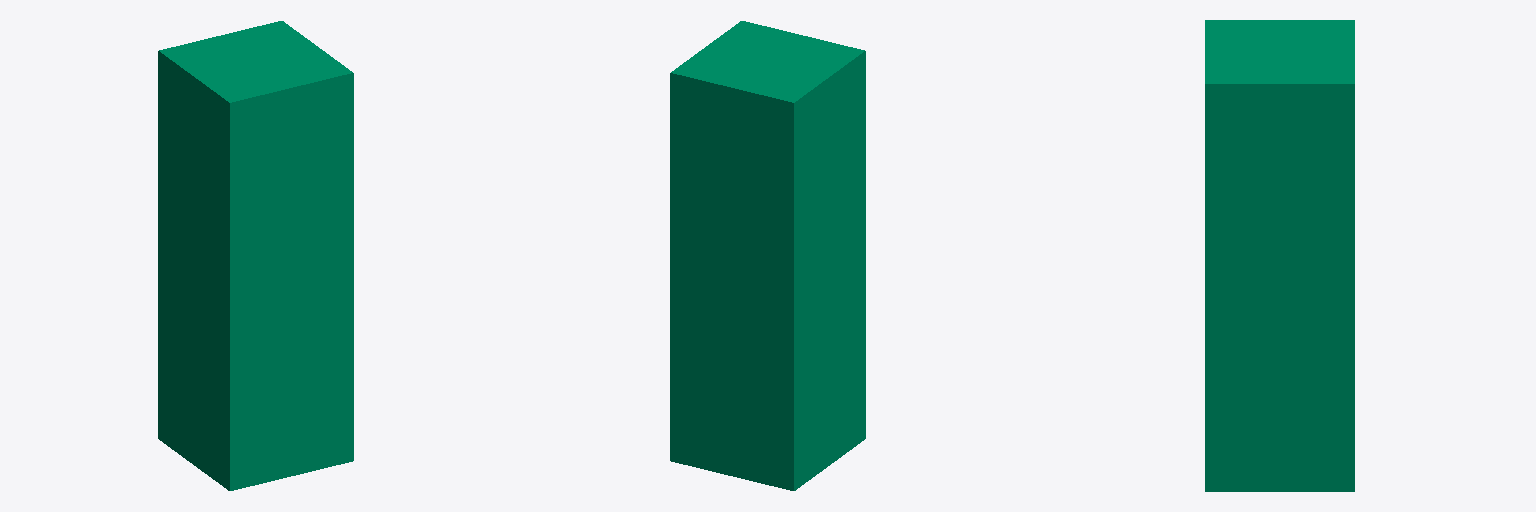
The robot description file, URDF, robot "stand":
<robot name="stand">

    <link name="world"/>
    <link name="origin_link"/>
    <joint
        name="world_joint"
        static="true"
        type="fixed"
    >

      <parent link="world"/>
      <child link="origin_link"/>

    </joint>
    <link name="stand_link">

        <inertial>

            <mass value="8"/>
            <inertia
                ixx="0.031296"
                ixy="0"
                ixz="0"
                iyy="0.031296"
                iyz="0"
                izz="0.002592"
            />

        </inertial>
        <visual>

            <geometry>

                <box size="0.1 0.1 0.3"
                />

            </geometry>

        </visual>
        <collision>


            <geometry>

                <box size="0.1 0.1 0.3"
                />

            </geometry>

        </collision>

    </link>
    <joint
        name="origin_joint"
        type="fixed"
    >

        <origin xyz="0 0 0"/>
        <parent link="origin_link"/>
        <child link="stand_link"/>
        <axis xyz="0 0 1"/>

    </joint>
    <gazebo>

        <plugin name="gazebo_ros_control" filename="libgazebo_ros_control.so" >

            <robotNamespace>/stand</robotNamespace>
            <controlPeriod>0.001</controlPeriod>

        </plugin>

    </gazebo>

</robot>

--- What the picture shows (computed from the rendered views, not written in the file) ---
The picture shows the robot from 3 angles, left to right: view 1: azimuth 30°, elevation 25°; view 2: azimuth 150°, elevation 25°; view 3: azimuth 270°, elevation 25°; orthographic projection.
Robot: stand — 3 links, 2 joints (2 fixed); root link world; default pose: every joint at zero.
Visible links, largest first — view 1: stand_link; view 2: stand_link; view 3: stand_link.
Link boxes in pixels (x1,y1,x2,y2): stand_link: (158,21,353,490); stand_link: (670,21,865,490); stand_link: (1205,20,1354,491).
Bounding box of the posed robot: 0.1 × 0.1 × 0.3 m (x, y, z).
Geometry: primitives only (box / cylinder / sphere), no mesh files.